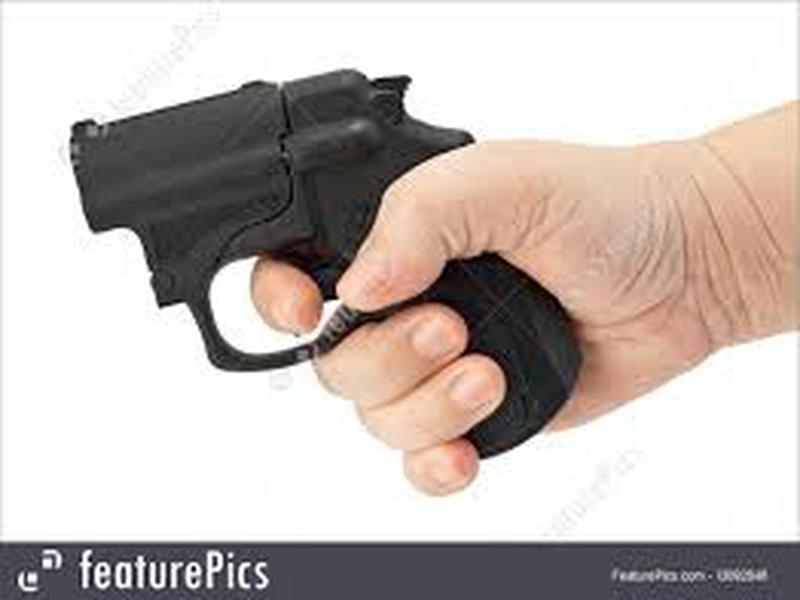gun: (64, 63, 800, 495)
